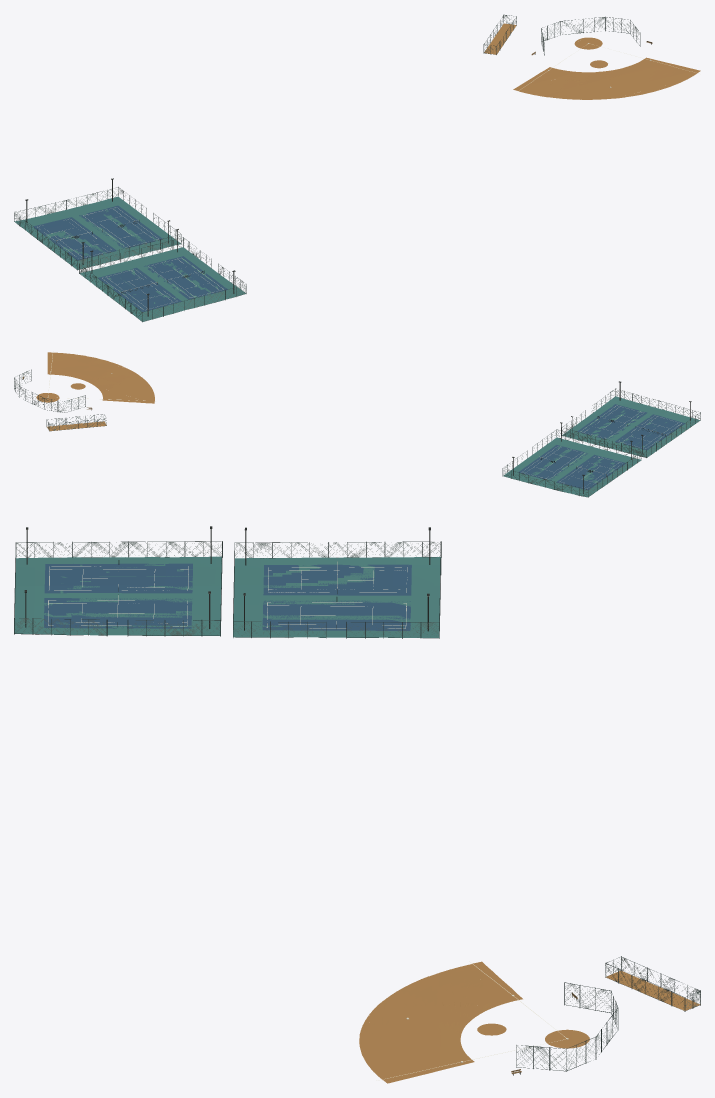
File: avent-sports.glb
The picture shows the model from 3 angles, top to bottom: view 1: azimuth 30°, elevation 25°; view 2: azimuth 150°, elevation 25°; view 3: azimuth 270°, elevation 25°; orthographic projection. The views are drawn at different scales.
Visible parts, largest first — view 1: Lighted tennis court enclosures, Baseball clay infield and batter’s area, Tennis 1462245761 — acrylic, markings, net, Tennis 1462245762 — acrylic, markings, net, Tennis 1462245764 — acrylic, markings, net, Tennis 1462245763 — acrylic, markings, net, Baseball backstop and player benches, Mapped batting cage; view 2: Lighted tennis court enclosures, Baseball clay infield and batter’s area, Tennis 1462245761 — acrylic, markings, net, Tennis 1462245764 — acrylic, markings, net, Tennis 1462245763 — acrylic, markings, net, Tennis 1462245762 — acrylic, markings, net, Mapped batting cage, Baseball backstop and player benches; view 3: Lighted tennis court enclosures, Baseball clay infield and batter’s area, Tennis 1462245761 — acrylic, markings, net, Tennis 1462245762 — acrylic, markings, net, Tennis 1462245764 — acrylic, markings, net, Tennis 1462245763 — acrylic, markings, net, Mapped batting cage, Baseball backstop and player benches.
Boxes of the visible parts, <box> form: Lighted tennis court enclosures: <box>14,178,246,322</box>; Baseball clay infield and batter’s area: <box>513,37,700,99</box>; Tennis 1462245761 — acrylic, markings, net: <box>98,267,181,311</box>; Tennis 1462245762 — acrylic, markings, net: <box>144,256,227,299</box>; Tennis 1462245764 — acrylic, markings, net: <box>32,217,116,260</box>; Tennis 1462245763 — acrylic, markings, net: <box>79,205,162,248</box>; Baseball backstop and player benches: <box>531,16,652,55</box>; Mapped batting cage: <box>483,14,516,54</box>; Lighted tennis court enclosures: <box>502,381,700,497</box>; Baseball clay infield and batter’s area: <box>36,351,155,403</box>; Tennis 1462245761 — acrylic, markings, net: <box>615,414,685,450</box>; Tennis 1462245764 — acrylic, markings, net: <box>556,454,626,490</box>; Tennis 1462245763 — acrylic, markings, net: <box>518,445,587,480</box>; Tennis 1462245762 — acrylic, markings, net: <box>577,404,647,439</box>; Mapped batting cage: <box>46,414,106,431</box>; Baseball backstop and player benches: <box>14,369,92,412</box>; Lighted tennis court enclosures: <box>14,526,441,638</box>; Baseball clay infield and batter’s area: <box>359,961,589,1083</box>; Tennis 1462245761 — acrylic, markings, net: <box>44,560,192,593</box>; Tennis 1462245762 — acrylic, markings, net: <box>44,594,192,628</box>; Tennis 1462245764 — acrylic, markings, net: <box>263,561,411,595</box>; Tennis 1462245763 — acrylic, markings, net: <box>262,597,410,630</box>; Mapped batting cage: <box>605,956,700,1011</box>; Baseball backstop and player benches: <box>511,982,618,1075</box>.
Size of the model in its own units: 222 by 8.25 by 122.
